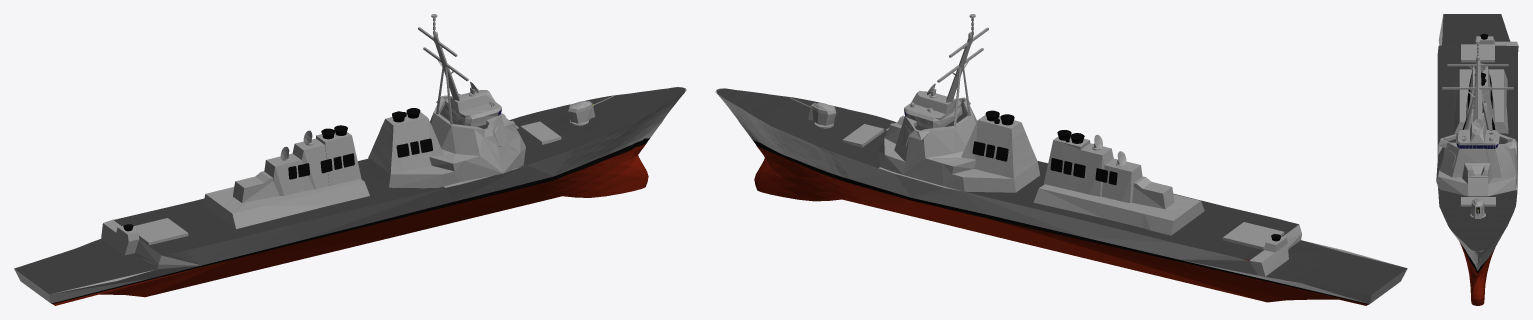
File: arleigh_burke.dae
The picture shows the model from 3 angles, left to right: view 1: azimuth 30°, elevation 25°; view 2: azimuth 150°, elevation 25°; view 3: azimuth 270°, elevation 25°; orthographic projection. The views are drawn at different scales.
Visible parts, largest first — view 1: node47, node46, node45, node44, node40, node48, node41, node20, node49, node51, node32; view 2: node47, node46, node45, node44, node40, node48, node41, node20, node49, node51; view 3: node47, node44, node40, node46, node45, node41, node19, node49, node20, node18, node51, node17 (+6 smaller).
Boxes of the visible parts, <box> form: node47: <box>14,87,685,294</box>; node46: <box>14,87,686,303</box>; node45: <box>53,144,648,305</box>; node44: <box>366,90,525,188</box>; node40: <box>203,132,369,228</box>; node48: <box>51,138,649,303</box>; node41: <box>133,218,188,244</box>; node20: <box>520,121,561,144</box>; node49: <box>554,113,600,133</box>; node51: <box>568,101,591,123</box>; node32: <box>396,138,432,157</box>; node47: <box>716,88,1407,294</box>; node46: <box>715,88,1407,303</box>; node45: <box>754,146,1368,305</box>; node44: <box>878,91,1039,192</box>; node40: <box>1033,136,1204,235</box>; node48: <box>752,140,1369,304</box>; node41: <box>1222,222,1284,249</box>; node20: <box>842,124,884,147</box>; node49: <box>802,115,850,135</box>; node51: <box>812,103,836,125</box>; node47: <box>1437,14,1518,251</box>; node44: <box>1436,103,1517,196</box>; node40: <box>1453,66,1508,133</box>; node46: <box>1437,15,1518,270</box>; node45: <box>1459,242,1494,305</box>; node41: <box>1461,44,1494,62</box>; node19: <box>1473,60,1483,122</box>; node49: <box>1458,208,1496,221</box>; node20: <box>1460,197,1495,206</box>; node18: <box>1442,87,1513,89</box>; node51: <box>1471,198,1484,217</box>; node17: <box>1447,64,1508,66</box>.
Bounding box in the file's own units: 154 × 20.43 × 49.29.
